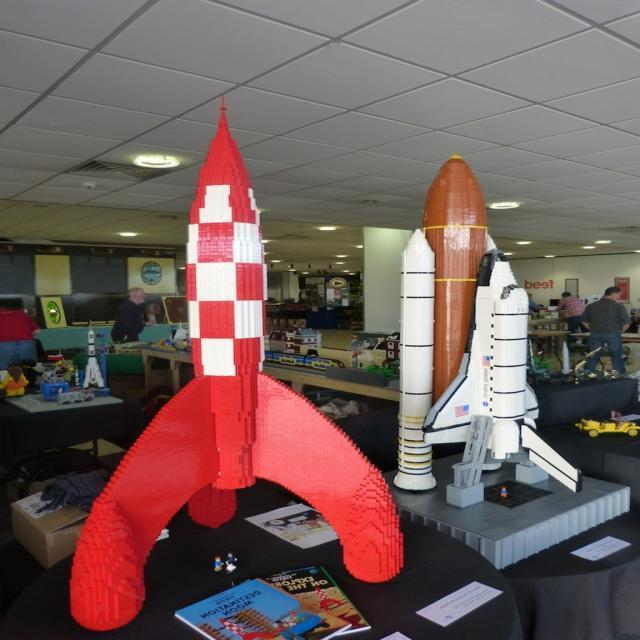missile: (396, 217, 440, 491)
